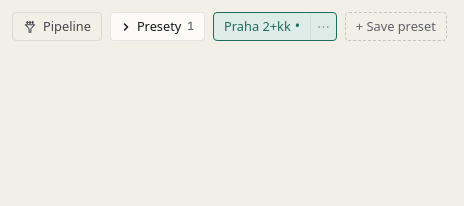
it: <FilterPresetBar> behaviour › deletes behind a confirm, and deselects the active preset
Step 1. Click the button named "Preset options: Praha 2+kk" → (323,27), box [310, 13, 336, 40]
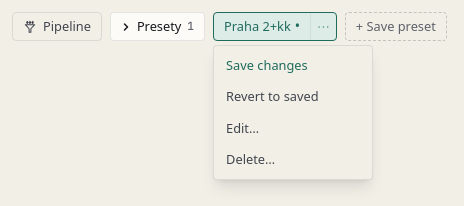
Step 2. Click the menu item "Delete…" → (293,159), box [214, 144, 372, 175]
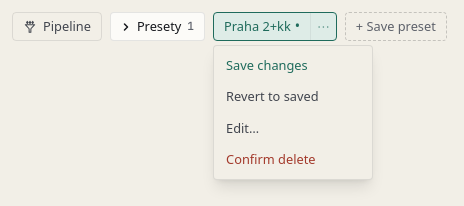
Step 3. Click the menu item "Confirm delete" → (293,159), box [214, 144, 372, 175]
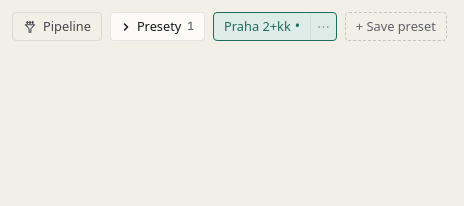
expect the menu is gone: met
